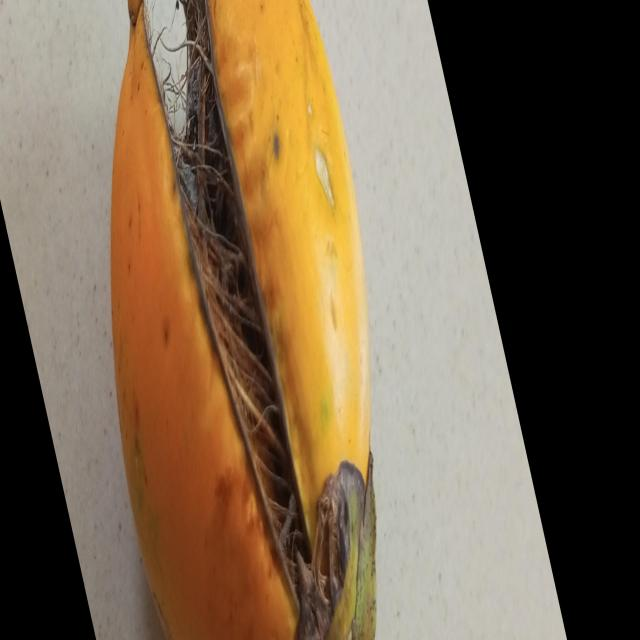damaged: (115, 0, 377, 640)
